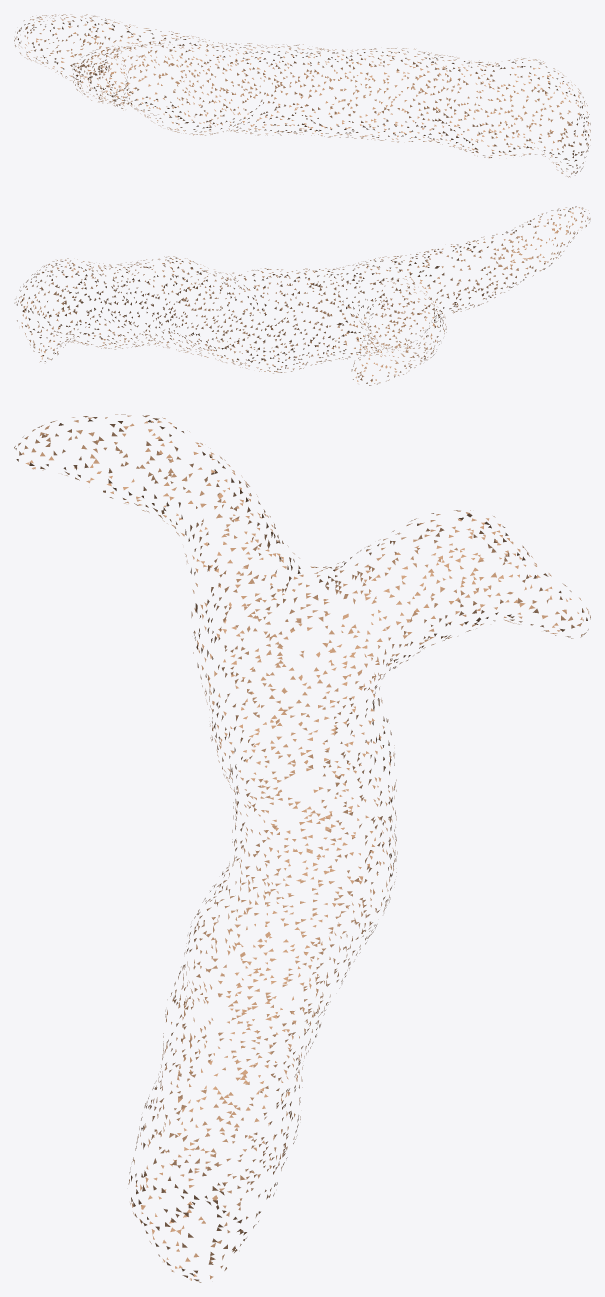
Rendered from morph_005.glb.
3 renders of one model, top to bottom at view 1: azimuth 30°, elevation 25°; view 2: azimuth 150°, elevation 25°; view 3: azimuth 270°, elevation 25°, orthographic. The views are drawn at different scales.
Size of the model in its own units: 135 by 61.99 by 73.09.
